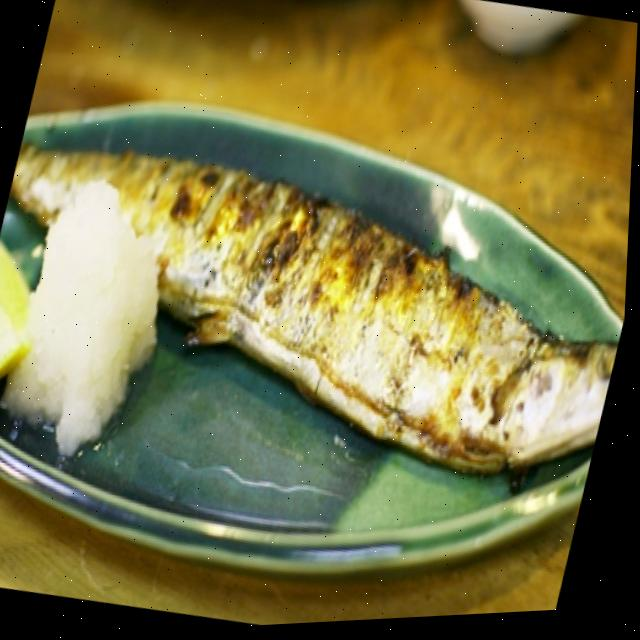熟制海鲜: (0, 90, 636, 471)
